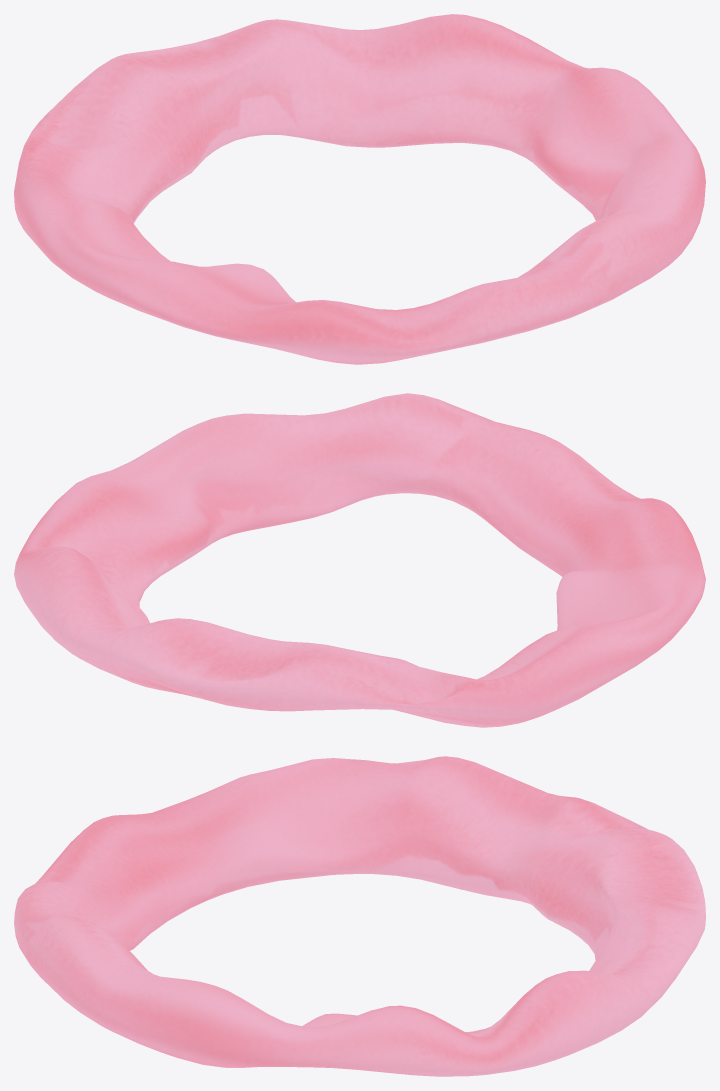
The model's file is Landscape.fbx.
The picture shows the model from 3 angles, top to bottom: view 1: azimuth 30°, elevation 25°; view 2: azimuth 150°, elevation 25°; view 3: azimuth 270°, elevation 25°; orthographic projection. The views are drawn at different scales.
Visible parts, largest first — view 1: Landscape; view 2: Landscape; view 3: Landscape.
Boxes of the visible parts, bbox=[...] form: Landscape: bbox=[14, 14, 705, 364]; Landscape: bbox=[14, 393, 705, 727]; Landscape: bbox=[14, 756, 705, 1076].
Size of the model in its own units: 494 by 499 by 88.91.
Materials: 1 (1 with a texture image).
